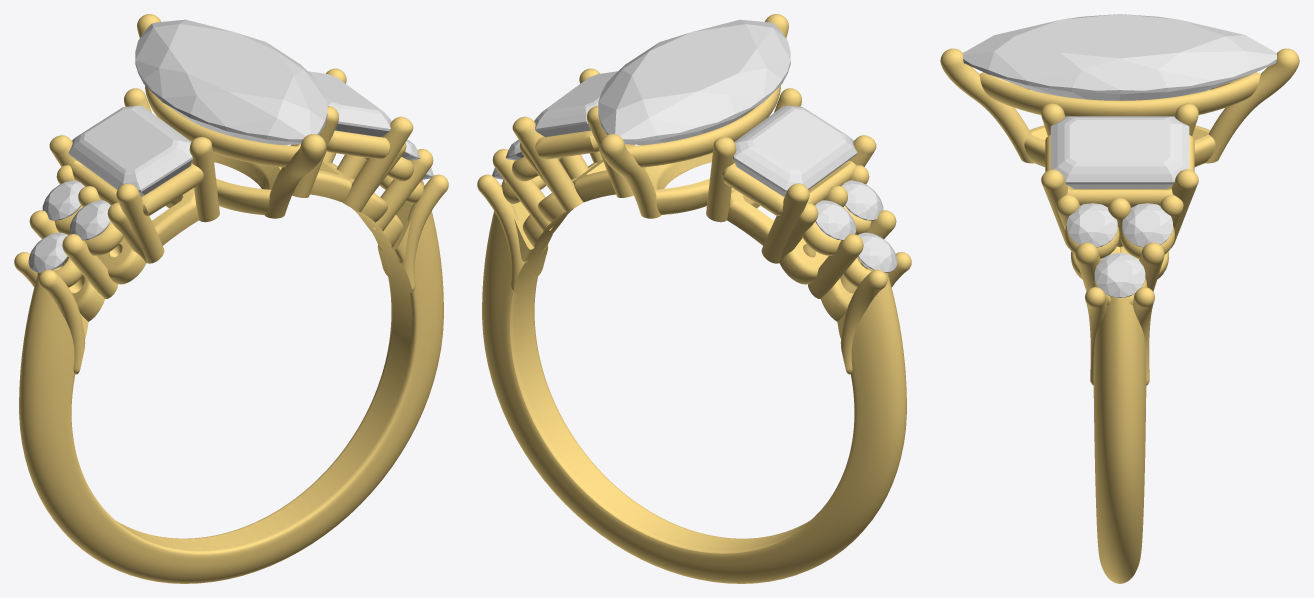
Rendered from JackV2engYG_blender.glb.
3 views of the same model, side by side, from view 1: azimuth 30°, elevation 25°; view 2: azimuth 150°, elevation 25°; view 3: azimuth 270°, elevation 25° (orthographic).
Parts seen in each view (by area): view 1: V2 Jack YG for 3d model, Jack dia center for 3d model, Jack dia em for 3d model.001, Jack dia em for 3d model, Jack dia rounds for 3d model.005, Jack dia rounds for 3d model.003, Jack dia rounds for 3d model.004; view 2: V2 Jack YG for 3d model, Jack dia center for 3d model, Jack dia em for 3d model.001, Jack dia em for 3d model, Jack dia rounds for 3d model.003, Jack dia rounds for 3d model.005, Jack dia rounds for 3d model.004; view 3: V2 Jack YG for 3d model, Jack dia center for 3d model, Jack dia em for 3d model, Jack dia rounds for 3d model.001, Jack dia rounds for 3d model, Jack dia rounds for 3d model.002.
Boxes of the visible parts, bbox=[...] form: V2 Jack YG for 3d model: bbox=[14, 14, 448, 583]; Jack dia center for 3d model: bbox=[135, 19, 327, 144]; Jack dia em for 3d model.001: bbox=[68, 105, 192, 196]; Jack dia em for 3d model: bbox=[308, 71, 391, 136]; Jack dia rounds for 3d model.005: bbox=[70, 200, 110, 240]; Jack dia rounds for 3d model.003: bbox=[42, 180, 84, 220]; Jack dia rounds for 3d model.004: bbox=[28, 232, 67, 272]; V2 Jack YG for 3d model: bbox=[477, 14, 911, 583]; Jack dia center for 3d model: bbox=[598, 19, 790, 144]; Jack dia em for 3d model.001: bbox=[733, 105, 857, 196]; Jack dia em for 3d model: bbox=[534, 71, 617, 136]; Jack dia rounds for 3d model.003: bbox=[815, 200, 855, 240]; Jack dia rounds for 3d model.005: bbox=[841, 180, 883, 220]; Jack dia rounds for 3d model.004: bbox=[858, 232, 897, 272]; V2 Jack YG for 3d model: bbox=[940, 48, 1299, 583]; Jack dia center for 3d model: bbox=[963, 14, 1276, 100]; Jack dia em for 3d model: bbox=[1050, 116, 1189, 188]; Jack dia rounds for 3d model.001: bbox=[1094, 253, 1145, 297]; Jack dia rounds for 3d model: bbox=[1122, 203, 1172, 247]; Jack dia rounds for 3d model.002: bbox=[1067, 203, 1117, 247].
Size of the model in its own units: 21.34 by 24.98 by 15.51.
